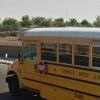Bus: (11, 24, 100, 100)
